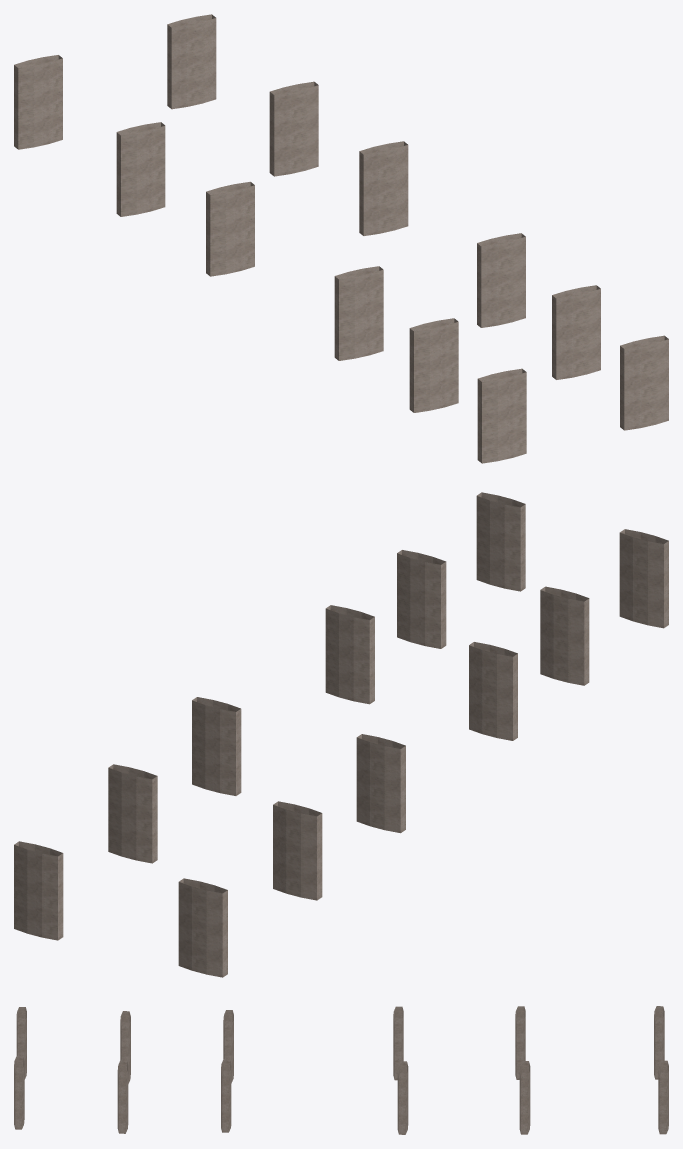
Rendered from cuntwland40b.obj.
The picture shows the model from 3 angles, top to bottom: view 1: azimuth 30°, elevation 25°; view 2: azimuth 150°, elevation 25°; view 3: azimuth 270°, elevation 25°; orthographic projection. The views are drawn at different scales.
Visible parts, largest first — view 1: cuntwland40b; view 2: cuntwland40b; view 3: cuntwland40b.
Boxes of the visible parts, x1,y1,x2,y2 form: cuntwland40b: (14, 14, 668, 463); cuntwland40b: (14, 492, 668, 977); cuntwland40b: (14, 1006, 668, 1134).
Size of the model in its own units: 34.71 by 14.1 by 131.
